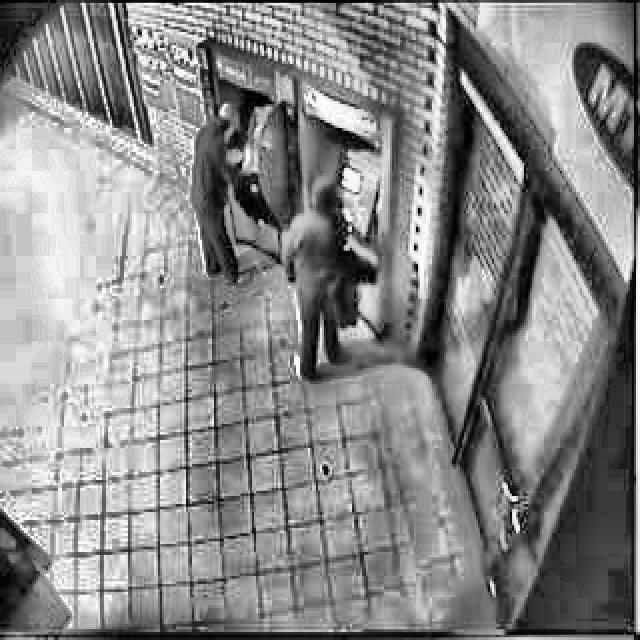burglary: (188, 88, 386, 392)
